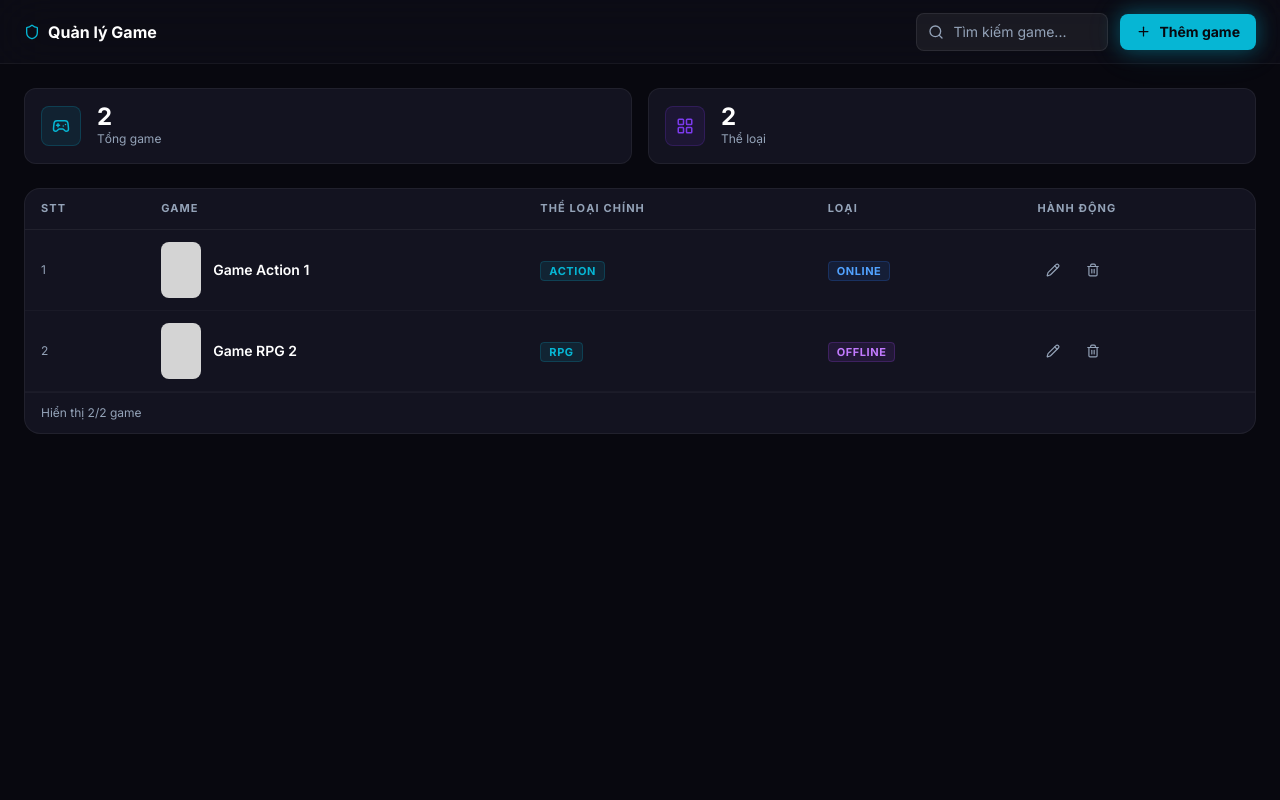
Test: GameManagement Component › TC4: shows validation errors when adding an invalid game
The image size is (1280, 800).
Click the button "Thêm game": (1188, 32) [1120,14,1256,50]
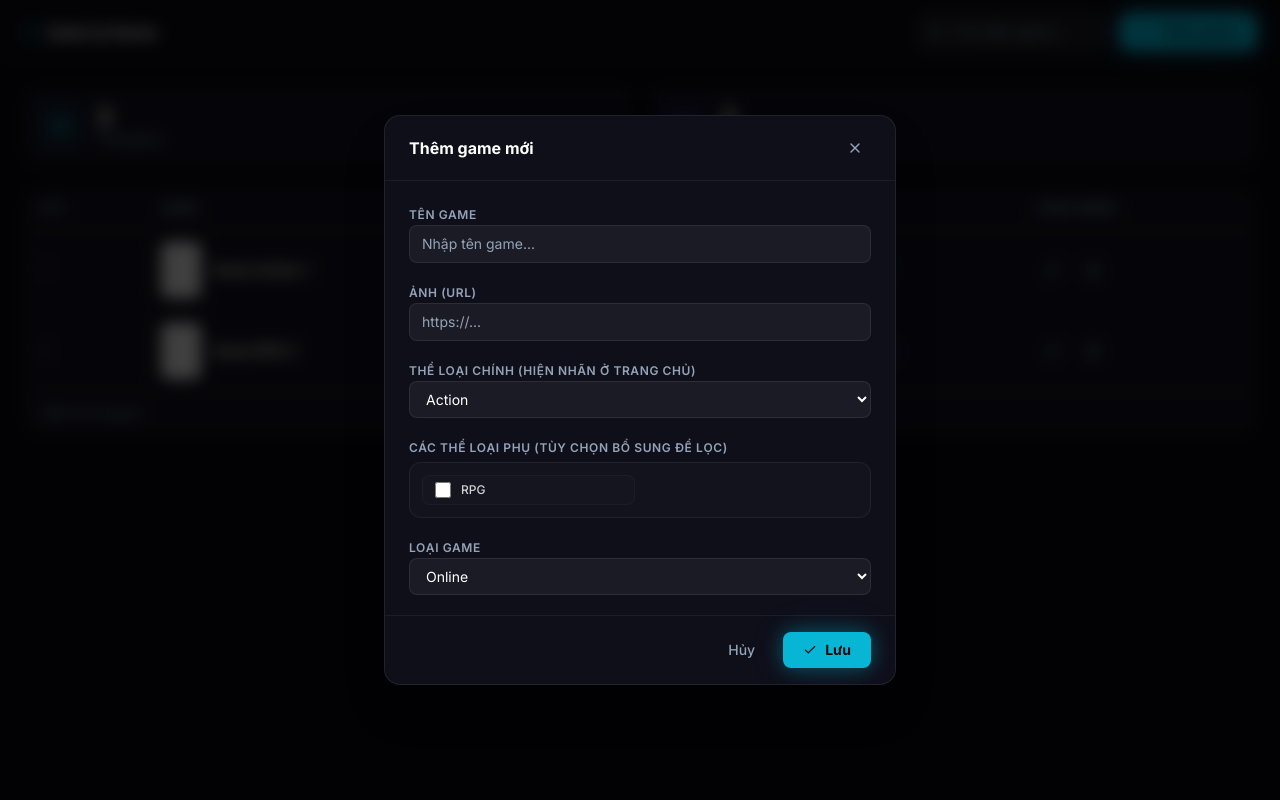
Note: Modal hiện lên, ấn Lưu luôn
Click the button "Lưu": (827, 650) [783,632,871,668]
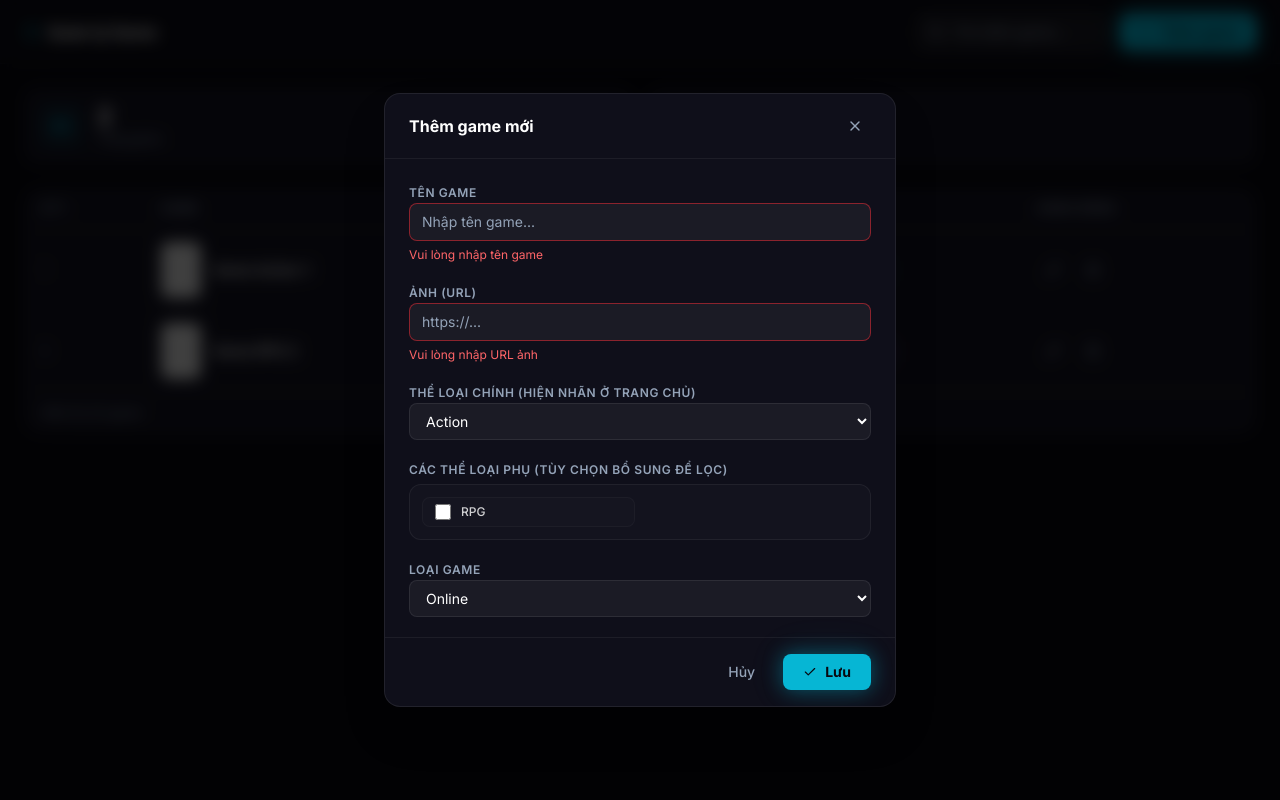
Result: the text "Vui lòng nhập tên game" is shown at [409,247,543,262]
Result: the text "Vui lòng nhập URL ảnh" is shown at [409,347,538,362]
Note: Kiểm tra bắt lỗi URL không hợp lệ
In the field with placeholder "https://...": (640, 322) [409,303,871,341], type "not-a-url"
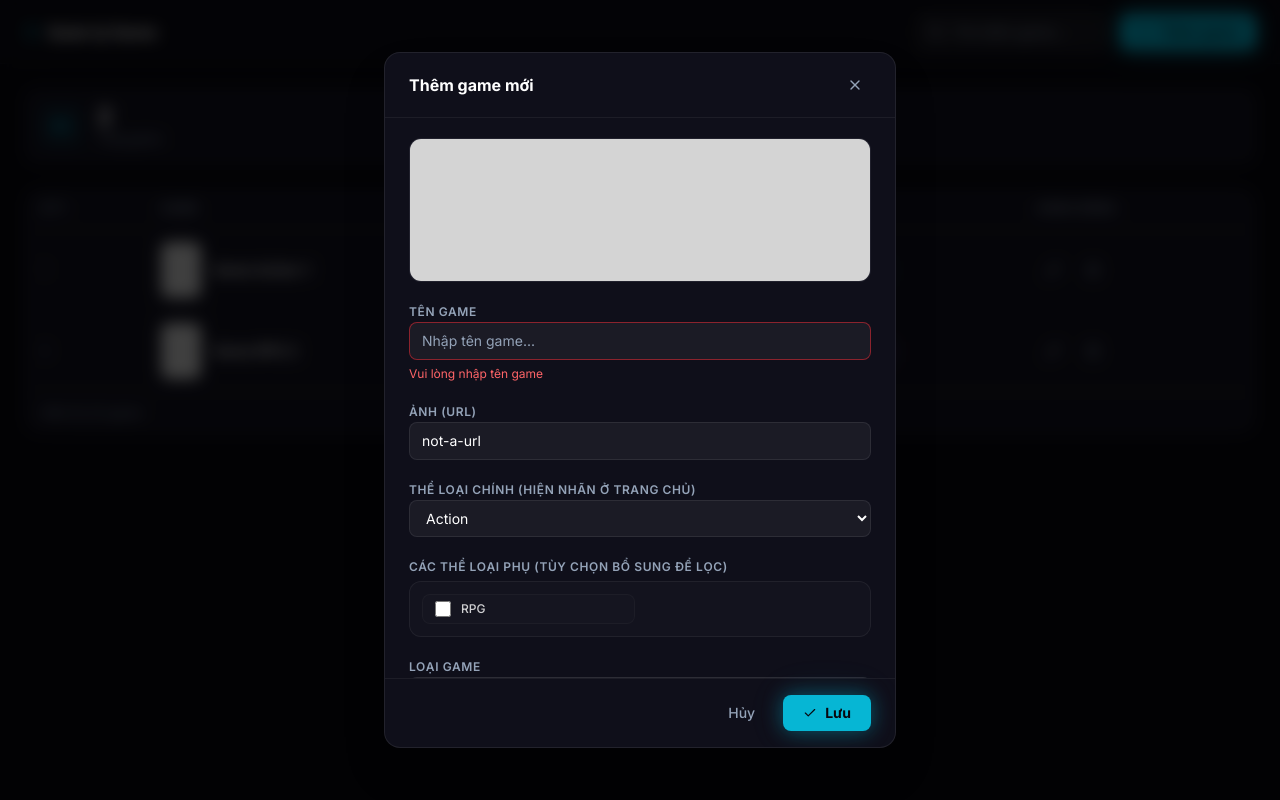
Click the button "Lưu": (827, 713) [783,695,871,731]
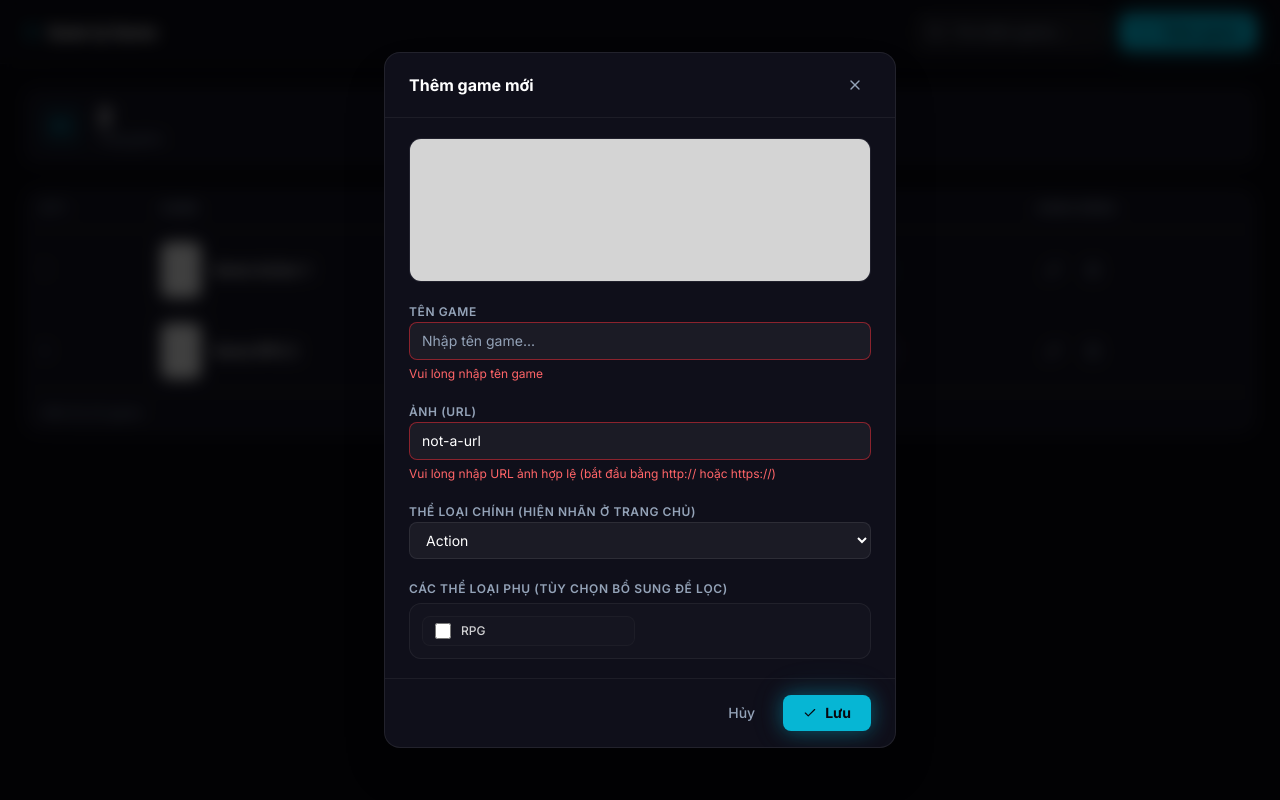
Result: the text "Vui lòng nhập URL ảnh hợp lệ (bắt đầu bằng http:// hoặc https://)" is shown at [409,466,776,481]
